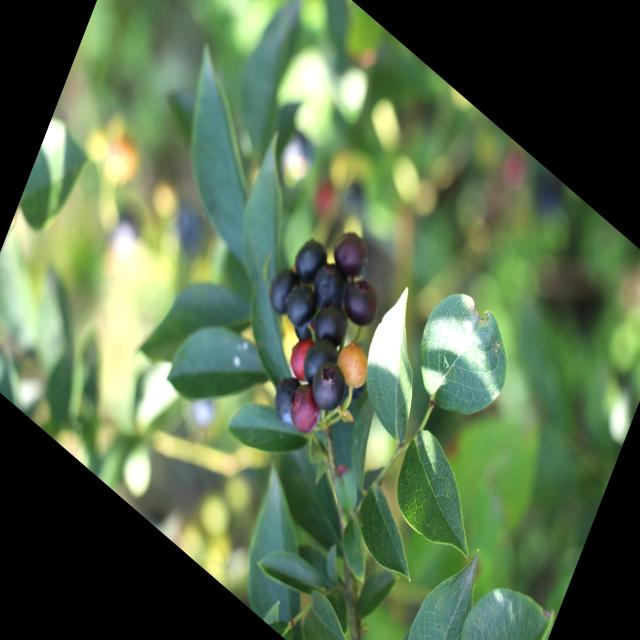blueberry: (306, 354, 351, 420), (328, 224, 373, 289), (298, 329, 341, 396), (339, 273, 383, 337), (290, 231, 330, 291), (310, 259, 350, 318), (311, 297, 350, 356), (282, 278, 320, 335), (268, 368, 304, 428), (266, 265, 298, 319)
blueberry-halfripe: (332, 336, 377, 398), (285, 383, 323, 438), (284, 332, 316, 384)
